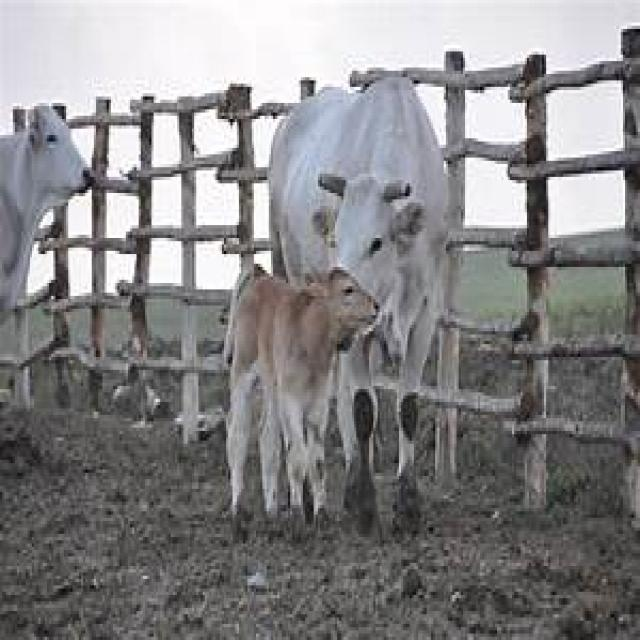cow: (267, 74, 448, 537), (224, 270, 382, 527), (0, 103, 92, 328)
